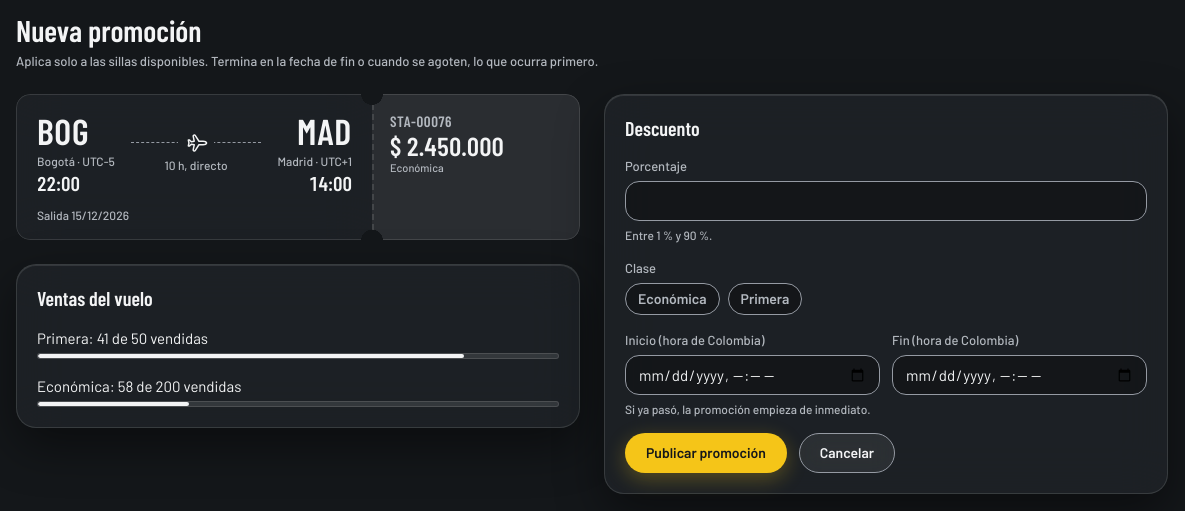
Test: S11 · Nueva promoción (HU-17) › rechaza un porcentaje con decimales junto al campo y no guarda
The width and height of the screenshot is (1185, 511).
Check: the heading "Nueva promoción" is shown, box x1=16 y1=12 x2=202 y2=48
Type "12.5" into the field labelled "Porcentaje".
click(886, 201); type("12.5")  # box x1=625 y1=181 x2=1147 y2=221
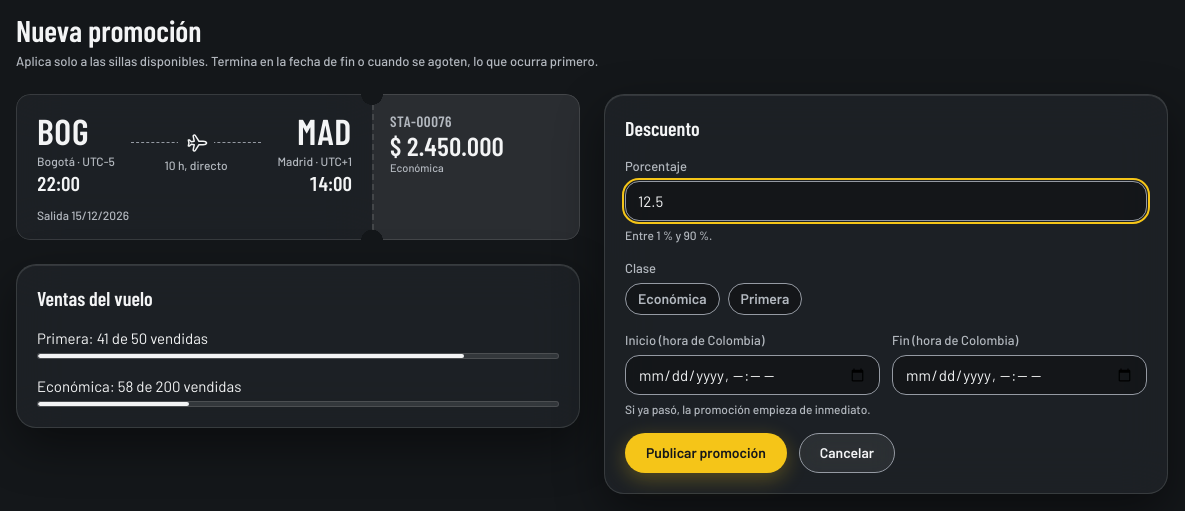
Click the button "Económica".
click(672, 299)  # box x1=625 y1=283 x2=720 y2=315
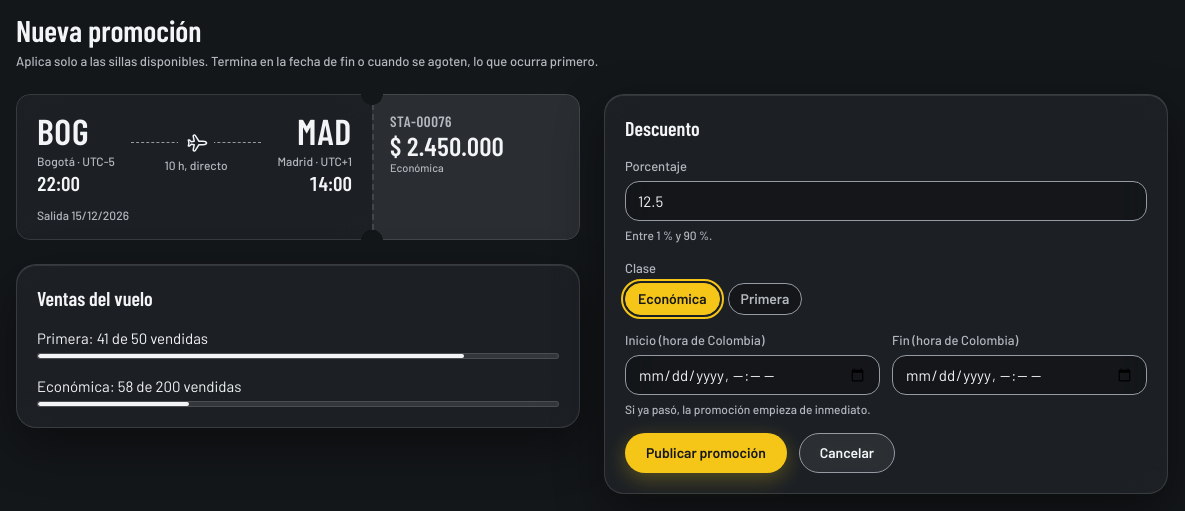
Type "2026-10-15T10:00" into the field labelled "Inicio (hora de Colombia)".
click(752, 375); type("2026-10-15T10:00")  # box x1=625 y1=355 x2=880 y2=395
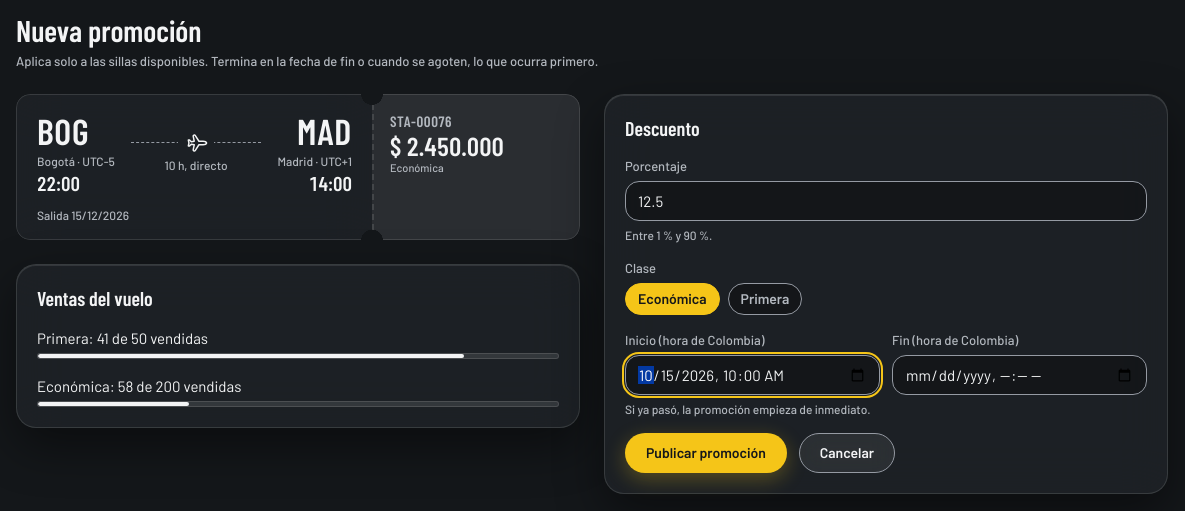
Type "2026-10-15T12:00" into the field labelled "Fin (hora de Colombia)".
click(1020, 375); type("2026-10-15T12:00")  # box x1=892 y1=355 x2=1147 y2=395
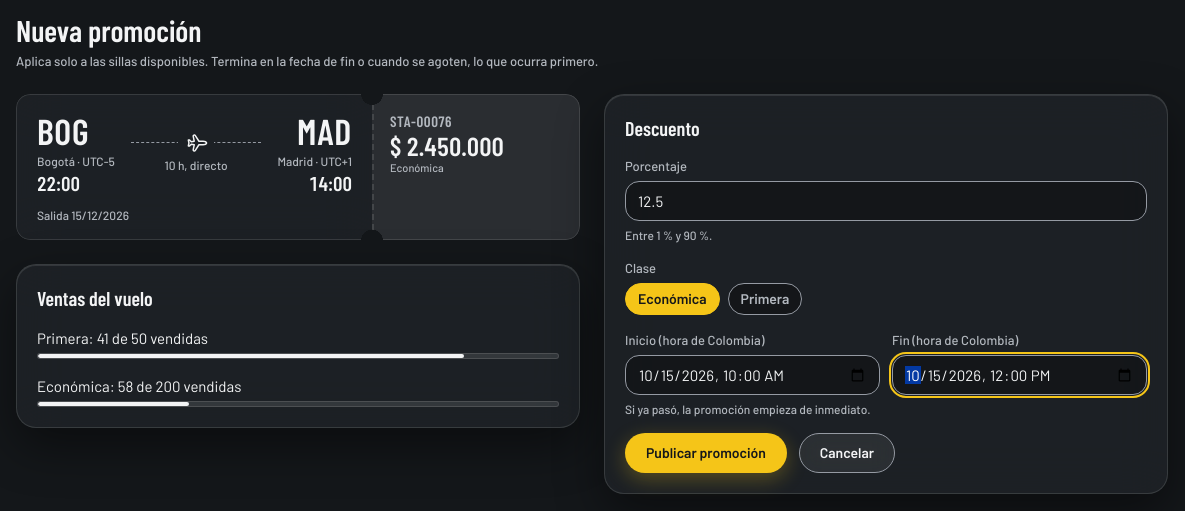
Click the button "Publicar promoción".
click(706, 453)  # box x1=625 y1=433 x2=787 y2=473
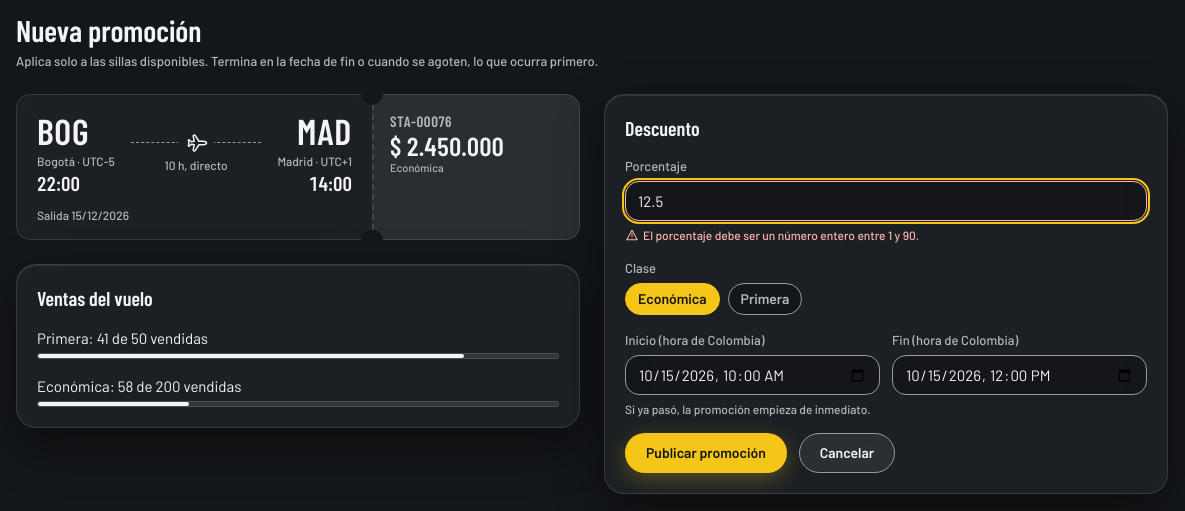
Check: the text "El porcentaje debe ser un número entero entre 1 y 90." is shown, box x1=625 y1=228 x2=919 y2=242
